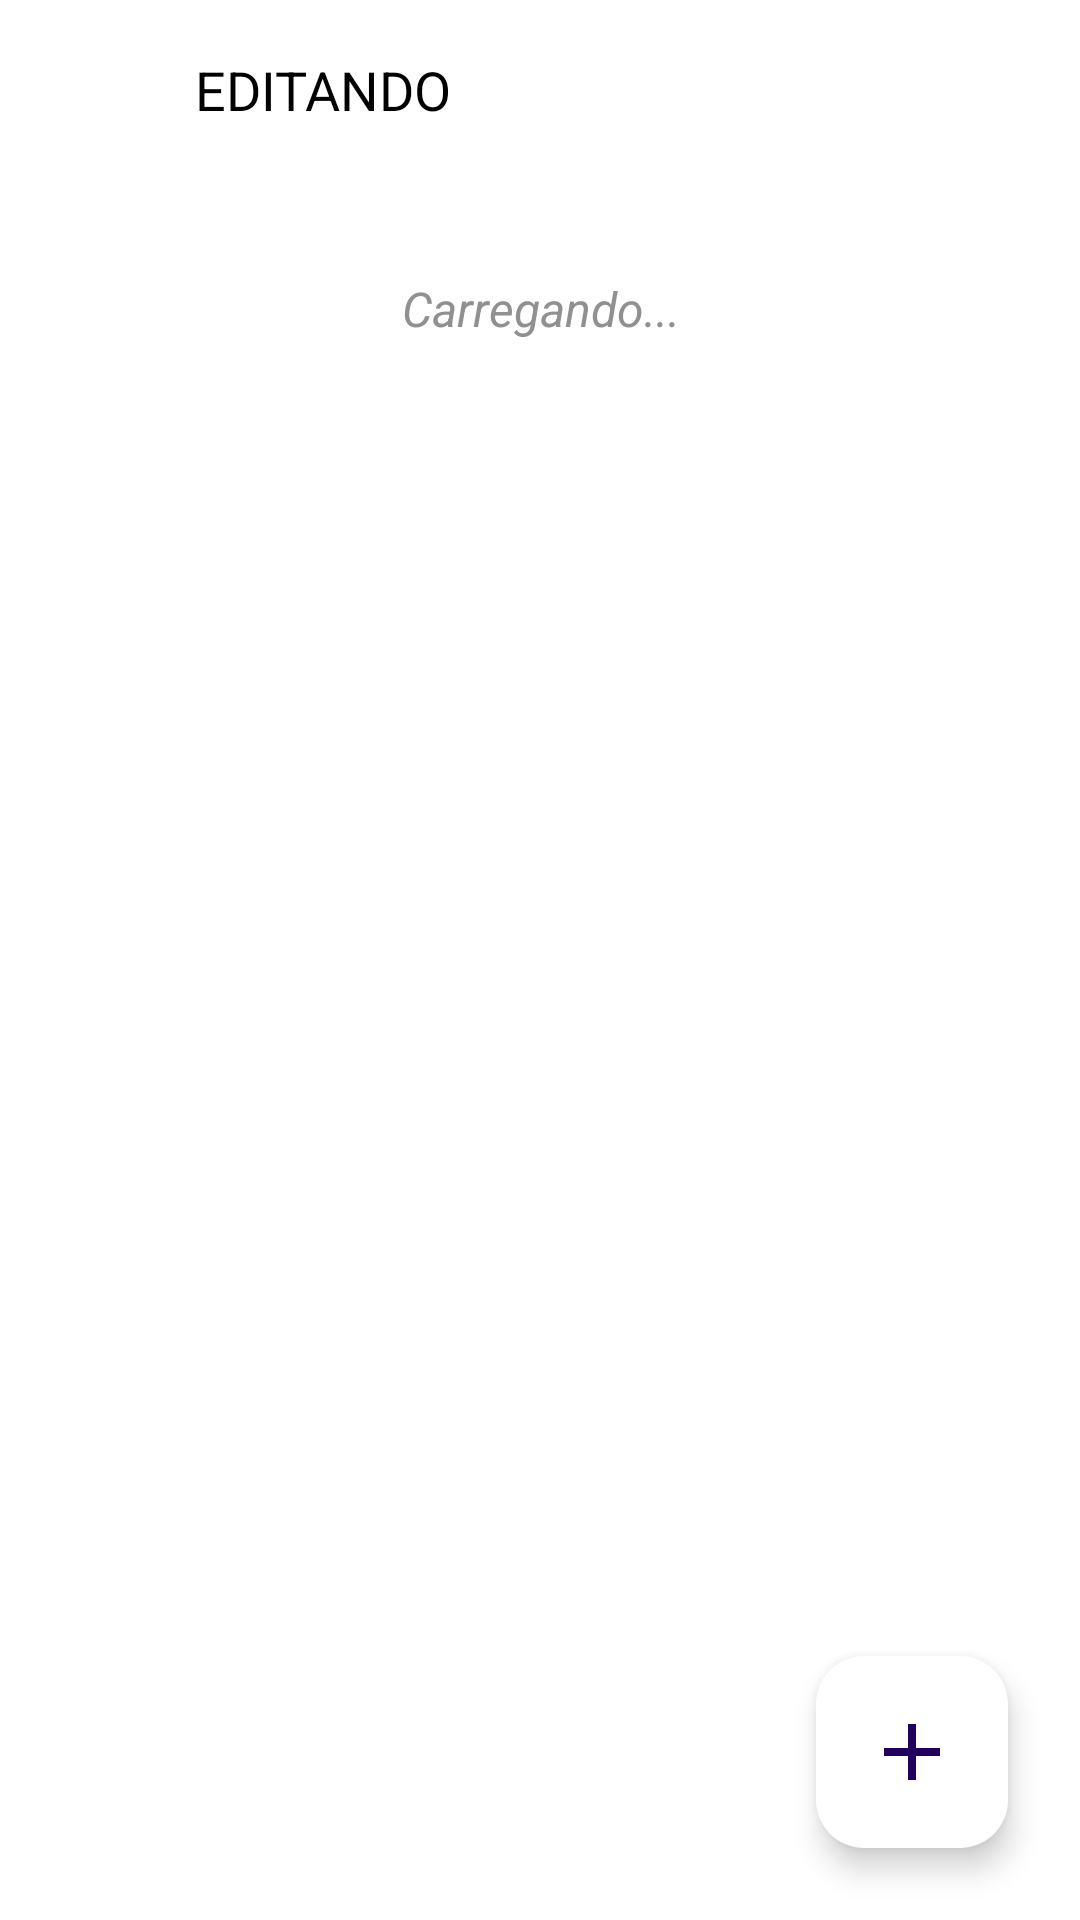

Icons on this 1080w x 1920h Android screen, each with its box as (x1, y1, x2, y2):
Adicionar: (884, 1724, 940, 1780)
